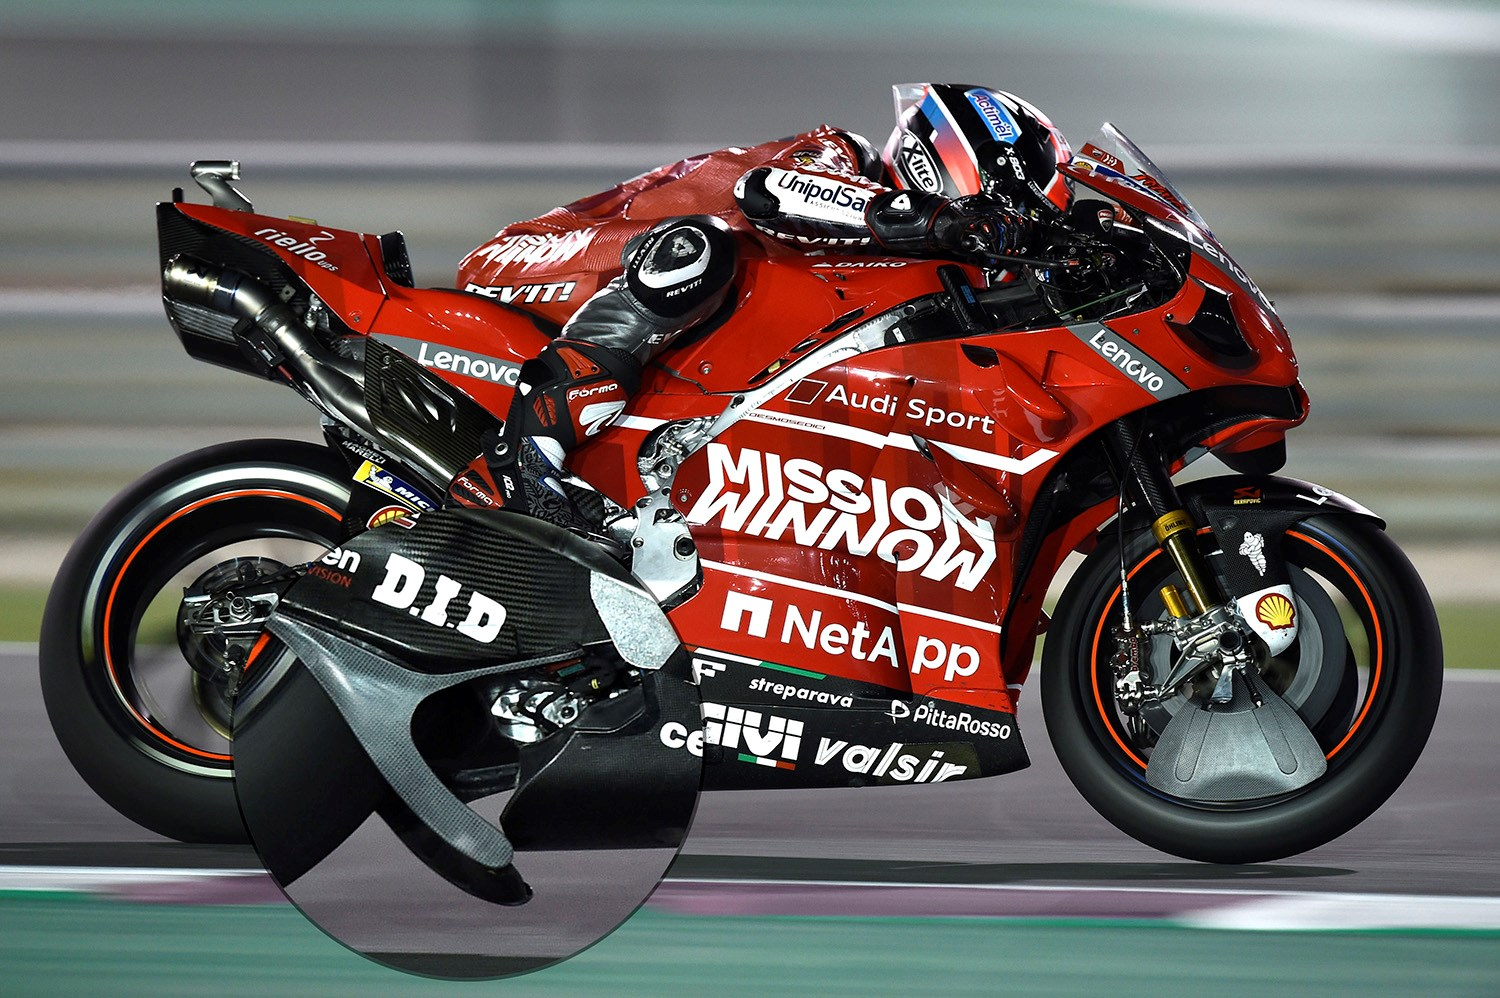helmet: (867, 40, 1075, 217)
